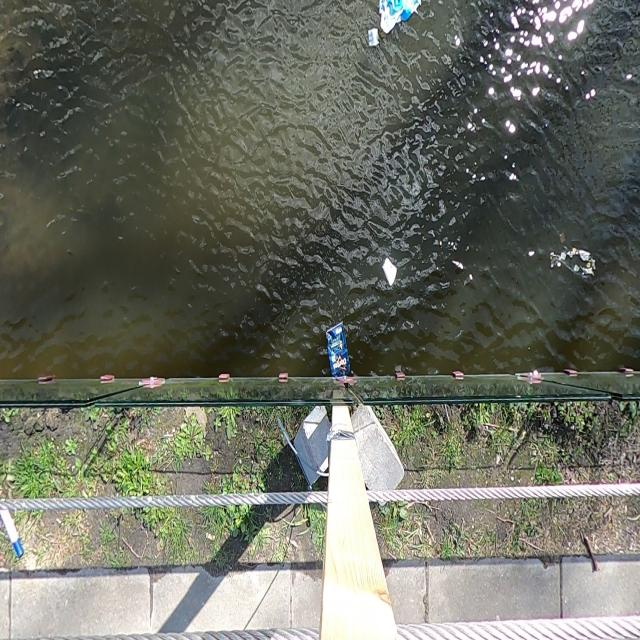Autre plastique: (325, 315, 351, 374)
Non plastique: (378, 253, 400, 294)
Sac plastique: (378, 0, 424, 33)
